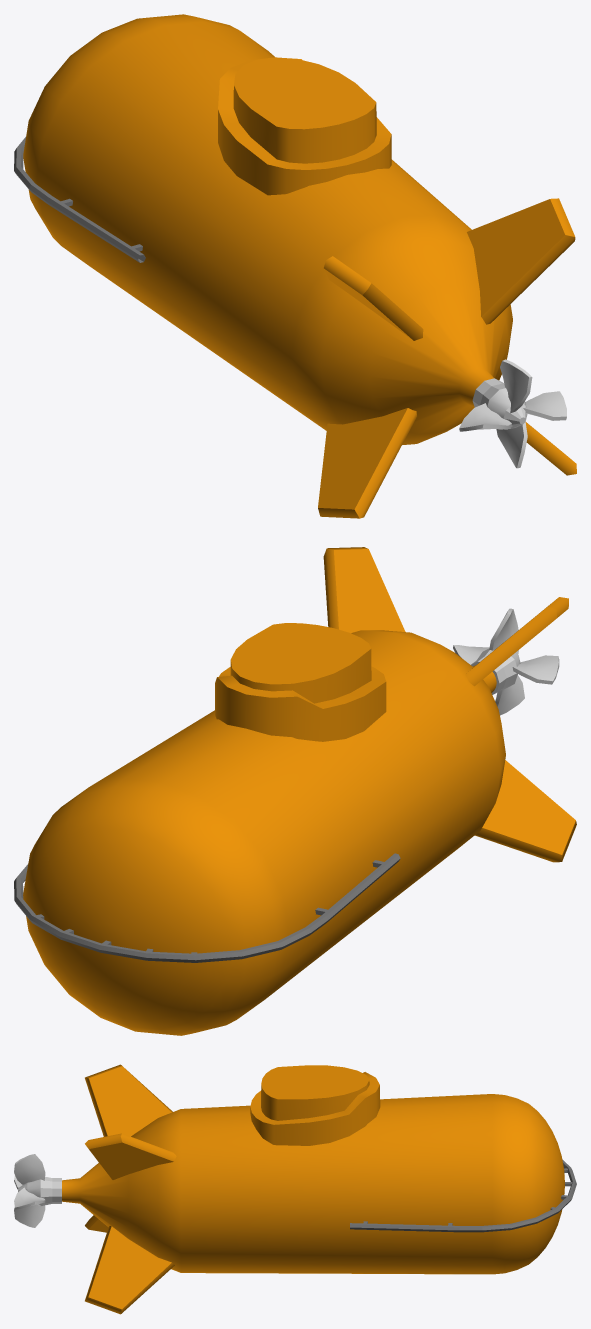
The model's file is OrangeSub.fbx.
The picture shows the model from 3 angles, top to bottom: view 1: azimuth 30°, elevation 25°; view 2: azimuth 150°, elevation 25°; view 3: azimuth 270°, elevation 25°; orthographic projection. The views are drawn at different scales.
Visible parts, largest first — view 1: polySurface43, pCylinder6, pCube10, pCube9, polySurface46, pCube11, pTorus2, pCube8; view 2: polySurface43, pCylinder6, pCube9, pCube10, pTorus2, polySurface46, pCube11; view 3: polySurface43, pCylinder6, pCube8, pCube11, pCube10, polySurface46, pTorus2.
Boxes of the visible parts, <box> form: polySurface43: <box>23,14,512,444</box>; pCylinder6: <box>218,57,391,195</box>; pCube10: <box>467,198,575,324</box>; pCube9: <box>318,408,416,518</box>; polySurface46: <box>459,359,566,468</box>; pCube11: <box>323,256,423,340</box>; pTorus2: <box>14,137,145,262</box>; pCube8: <box>525,422,576,475</box>; polySurface43: <box>23,630,505,1035</box>; pCylinder6: <box>215,623,386,741</box>; pCube9: <box>475,760,576,862</box>; pCube10: <box>323,547,405,633</box>; pTorus2: <box>14,853,400,962</box>; polySurface46: <box>453,608,559,715</box>; pCube11: <box>465,597,568,686</box>; polySurface43: <box>62,1094,564,1274</box>; pCylinder6: <box>250,1065,380,1145</box>; pCube8: <box>85,1226,174,1314</box>; pCube11: <box>85,1064,172,1136</box>; pCube10: <box>85,1133,176,1180</box>; polySurface46: <box>14,1154,61,1227</box>; pTorus2: <box>350,1159,576,1232</box>.
Size of the model in its own units: 2.93 by 2.9 by 7.54.
